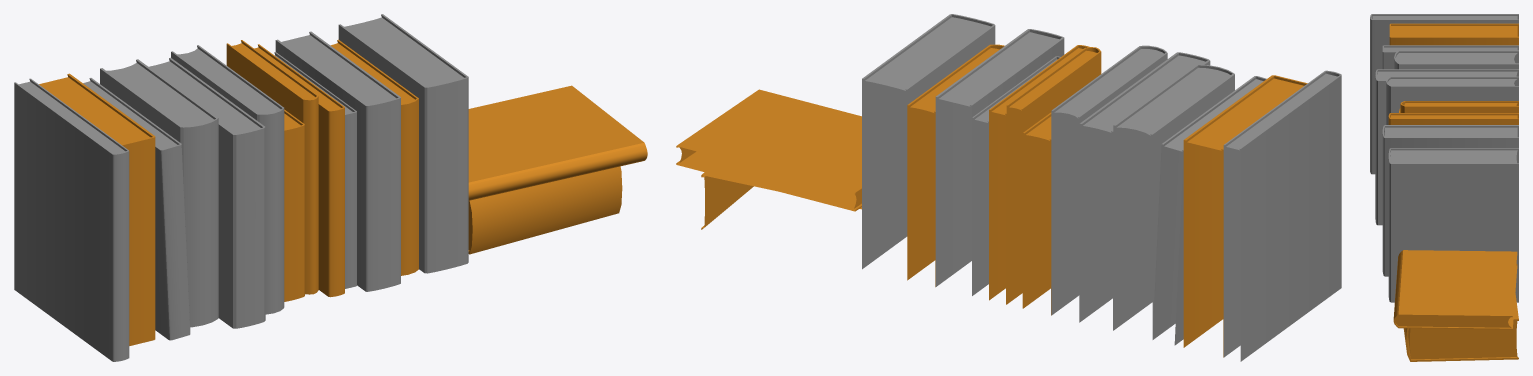
The model's file is SM_BookSet_01_C.FBX.
3 renders of one model, left to right at view 1: azimuth 30°, elevation 25°; view 2: azimuth 150°, elevation 25°; view 3: azimuth 270°, elevation 25°, orthographic. The views are drawn at different scales.
Parts seen in each view (by area): view 1: SM_BookSet_01_C; view 2: SM_BookSet_01_C; view 3: SM_BookSet_01_C.
Boxes of the visible parts, x1=… form: SM_BookSet_01_C: x1=14, y1=14, x2=647, y2=361; SM_BookSet_01_C: x1=676, y1=14, x2=1341, y2=361; SM_BookSet_01_C: x1=1370, y1=14, x2=1518, y2=361.
Size of what is drawn, in the model's own units: 81.09 by 29 by 25.34.
